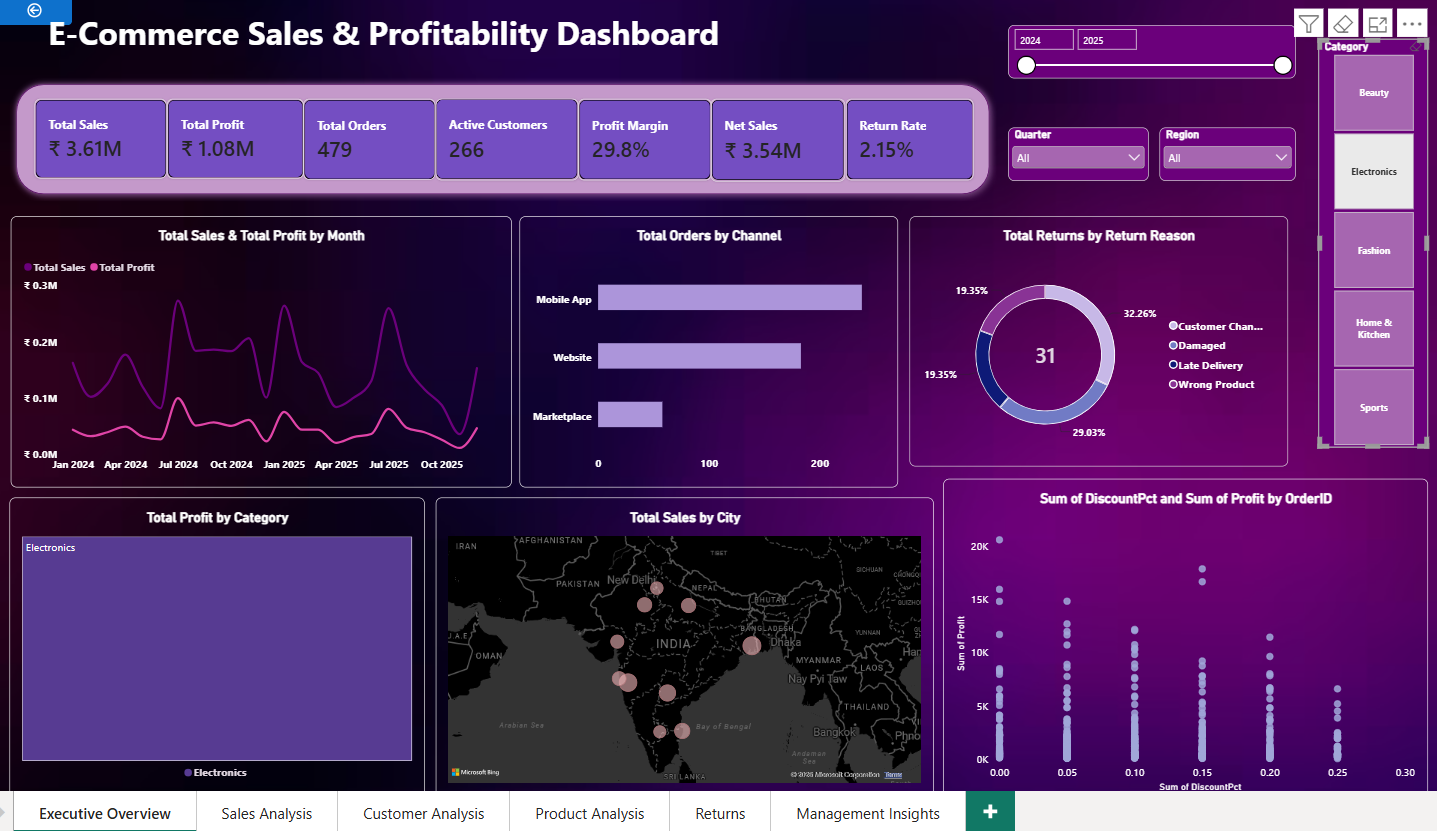

What the dashboard file says about the page in this screenshot:
{"tool":"powerbi","page":{"name":" Executive Overview ","canvas":[1920,1080],"ordinal":0},"visuals":[{"type":"shape","box":[16.3,110.4,1315.6,164.7],"z":1000},{"type":"cardVisual","fields":{"Data":["Customers.Total Sales"]},"box":[50.7,137.5,176,106],"z":2000},{"type":"cardVisual","fields":{"Data":["Customers.Total Profit"]},"box":[227.4,137.6,182,106],"z":3000},{"type":"cardVisual","fields":{"Data":["Customers.Total Orders"]},"box":[409,137.5,176,108],"z":4000},{"type":"cardVisual","fields":{"Data":["Customers.Profit Margin"]},"box":[774.5,137.5,177.3,108.6],"z":5000},{"type":"cardVisual","fields":{"Data":["Customers.Return Rate"]},"box":[1131,137.5,170.1,108.6],"z":6000},{"type":"cardVisual","fields":{"Data":["Customers.Net Sales"]},"box":[951.9,137.5,179.2,110.4],"z":7000},{"type":"lineChart","title":"Total Sales & Total Profit by Month","fields":{"Category":["Date.YearMonth"],"Y":["Customers.Total Sales","Customers.Total Profit"]},"box":[18.1,295,667.8,361.9],"z":8000},{"type":"treemap","fields":{"Group":["Products.Category"],"Values":["Customers.Total Profit"]},"box":[16.5,669.5,553.9,398],"z":9000},{"type":"barChart","fields":{"Category":["Orders.Channel"],"Y":["Customers.Total Orders"]},"box":[697,295.3,504.4,361.3],"z":10000},{"type":"donutChart","title":"Total Returns by Return Reason","fields":{"Category":["Returns.ReturnReason"],"Y":["Customers.Total Returns"]},"box":[1216.1,295.3,504.4,333.8],"z":11000},{"type":"map","fields":{"Category":["Regions.City"],"Size":["Customers.Total Sales"]},"box":[585.1,669.5,664,398],"z":12000},{"type":"scatterChart","fields":{"Category":["Orders.OrderID"],"X":["Sum(Orders.DiscountPct)"],"Y":["Sum(Orders.Profit)"]},"box":[1262,645.7,646,434],"z":13000},{"type":"actionButton","box":[0,0,100,40],"z":14000},{"type":"slicer","fields":{"Values":["Date.Year"]},"box":[1348.2,40.4,383.4,71.5],"z":15000},{"type":"slicer","fields":{"Values":["Date.Quarter"]},"box":[1348.2,176.1,187.1,71.5],"z":16000},{"type":"slicer","fields":{"Values":["Regions.Region"]},"box":[1549.9,176.1,181.6,71.5],"z":17000},{"type":"slicer","fields":{"Values":["Products.Category"]},"box":[1760.9,58.7,146.7,544.8],"z":18000},{"type":"textbox","box":[68.8,19.9,1026.1,92.3],"z":19000},{"type":"cardVisual","fields":{"Data":["Customers.Active Customers"]},"box":[584.5,137.5,190,108.6],"z":20000}]}

Visuals, with their boxes on the page's 1920x1080 design canvas (x1, y1, x2, y2). These are canvas units, not pixel positions in the 1437x831 screenshot, which may show the page scaled, cropped or inside an application window:
shape: {"left": 16, "top": 110, "right": 1332, "bottom": 275}
cardVisual - Customers.Total Sales: {"left": 51, "top": 138, "right": 227, "bottom": 244}
cardVisual - Customers.Total Profit: {"left": 227, "top": 138, "right": 409, "bottom": 244}
cardVisual - Customers.Total Orders: {"left": 409, "top": 138, "right": 585, "bottom": 246}
cardVisual - Customers.Profit Margin: {"left": 774, "top": 138, "right": 952, "bottom": 246}
cardVisual - Customers.Return Rate: {"left": 1131, "top": 138, "right": 1301, "bottom": 246}
cardVisual - Customers.Net Sales: {"left": 952, "top": 138, "right": 1131, "bottom": 248}
"Total Sales & Total Profit by Month" lineChart: {"left": 18, "top": 295, "right": 686, "bottom": 657}
treemap - Products.Category x Customers.Total Profit: {"left": 16, "top": 670, "right": 570, "bottom": 1068}
barChart - Orders.Channel x Customers.Total Orders: {"left": 697, "top": 295, "right": 1201, "bottom": 657}
"Total Returns by Return Reason" donutChart: {"left": 1216, "top": 295, "right": 1720, "bottom": 629}
map - Regions.City x Customers.Total Sales: {"left": 585, "top": 670, "right": 1249, "bottom": 1068}
scatterChart - Orders.OrderID x Sum(Orders.DiscountPct): {"left": 1262, "top": 646, "right": 1908, "bottom": 1080}
actionButton: {"left": 0, "top": 0, "right": 100, "bottom": 40}
slicer - Date.Year: {"left": 1348, "top": 40, "right": 1732, "bottom": 112}
slicer - Date.Quarter: {"left": 1348, "top": 176, "right": 1535, "bottom": 248}
slicer - Regions.Region: {"left": 1550, "top": 176, "right": 1732, "bottom": 248}
slicer - Products.Category: {"left": 1761, "top": 59, "right": 1908, "bottom": 604}
textbox: {"left": 69, "top": 20, "right": 1095, "bottom": 112}
cardVisual - Customers.Active Customers: {"left": 584, "top": 138, "right": 774, "bottom": 246}
